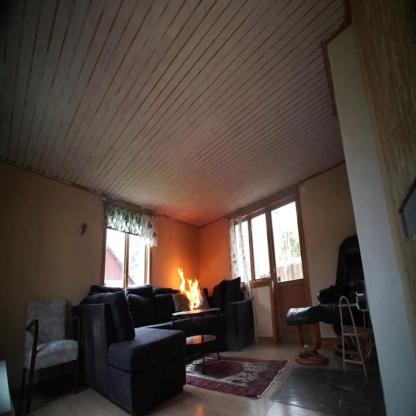fire: (177, 266, 203, 312)
